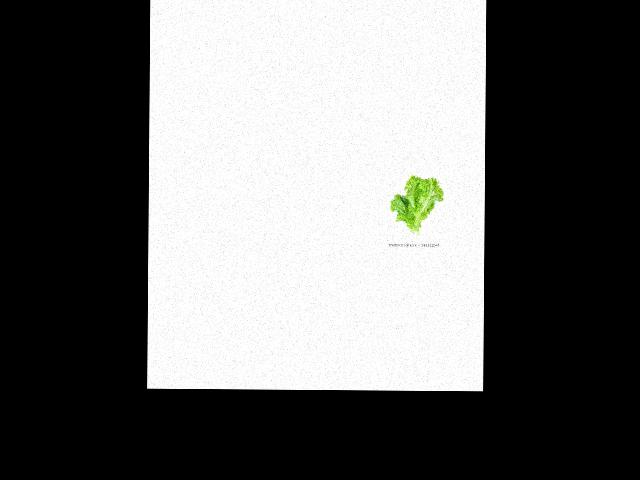lettuce: (388, 174, 443, 239)
